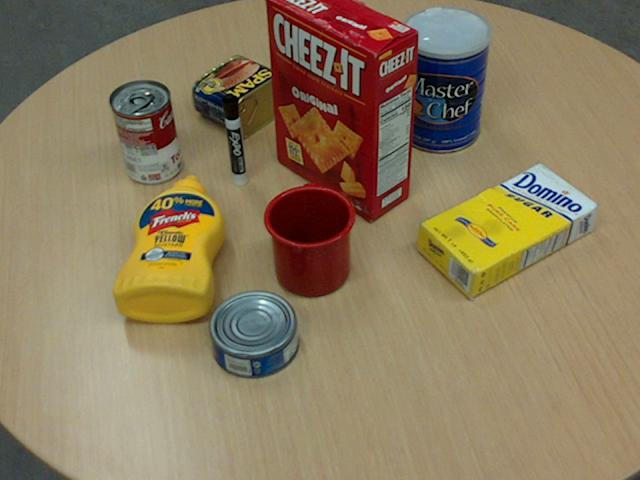cracker_box: (266, 0, 418, 218)
gelatin_box: (301, 44, 374, 106)
large_marker: (221, 92, 246, 186)
master_chef_can: (398, 6, 490, 153)
mug: (262, 184, 355, 296)
mustard_bottle: (112, 175, 224, 321)
potted_meat_can: (191, 54, 293, 136)
sugar_box: (416, 163, 598, 299)
tomato_soup_can: (109, 78, 180, 182)
tuna_fish_can: (208, 291, 298, 378)
